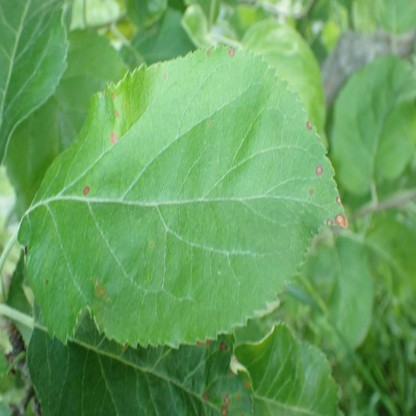frogeye_leaf_spot: (326, 194, 347, 229), (221, 395, 229, 414), (228, 47, 235, 59), (315, 165, 323, 175), (110, 131, 117, 142), (306, 119, 313, 128), (219, 342, 226, 351), (203, 390, 209, 399), (83, 186, 89, 193), (243, 380, 248, 388), (228, 370, 233, 378), (111, 92, 115, 99), (115, 110, 119, 116), (236, 394, 239, 398)
